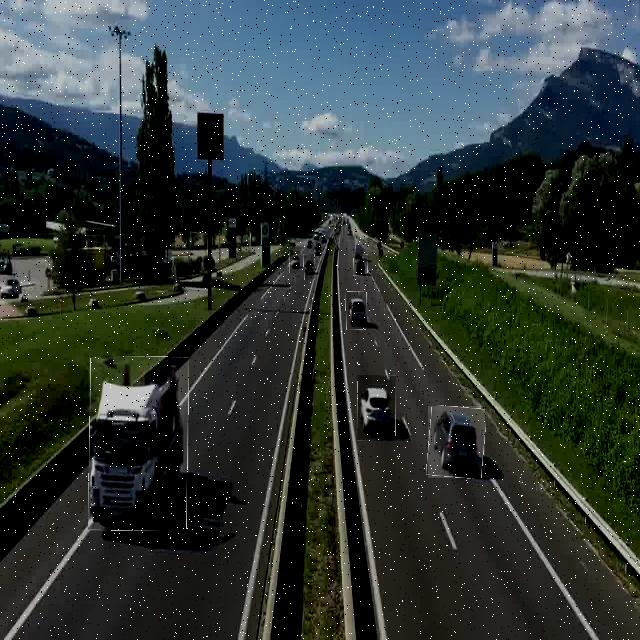Car: (428, 406, 485, 478), (357, 375, 396, 441), (346, 292, 367, 330), (354, 254, 368, 276), (304, 254, 315, 280), (289, 251, 300, 273)
Truck: (89, 357, 189, 531)
